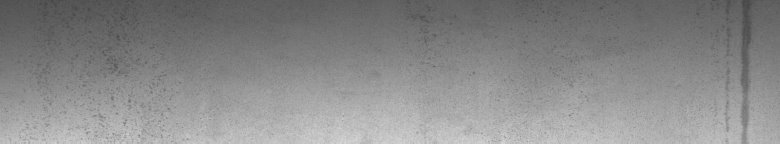ib: (44, 12, 170, 136)
